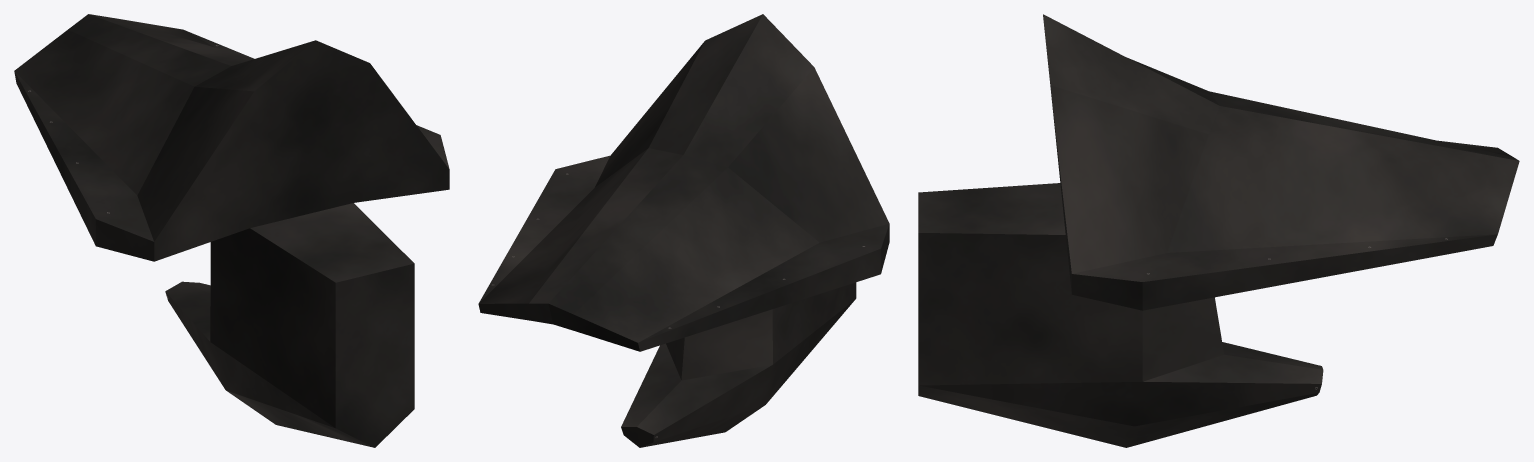
The model's file is e_stern_d_model.fbx.
3 views of the same model, side by side, from view 1: azimuth 30°, elevation 25°; view 2: azimuth 150°, elevation 25°; view 3: azimuth 270°, elevation 25° (orthographic). The views are drawn at different scales.
Parts seen in each view (by area): view 1: polySurface23; view 2: polySurface23; view 3: polySurface23.
Part boxes in pixels (x1=…): polySurface23: x1=14, y1=14, x2=449, y2=447; polySurface23: x1=478, y1=14, x2=889, y2=447; polySurface23: x1=918, y1=14, x2=1519, y2=447.
Bounding box in the file's own units: 5591 × 6413 × 8054.
2 materials, 1 textured.
